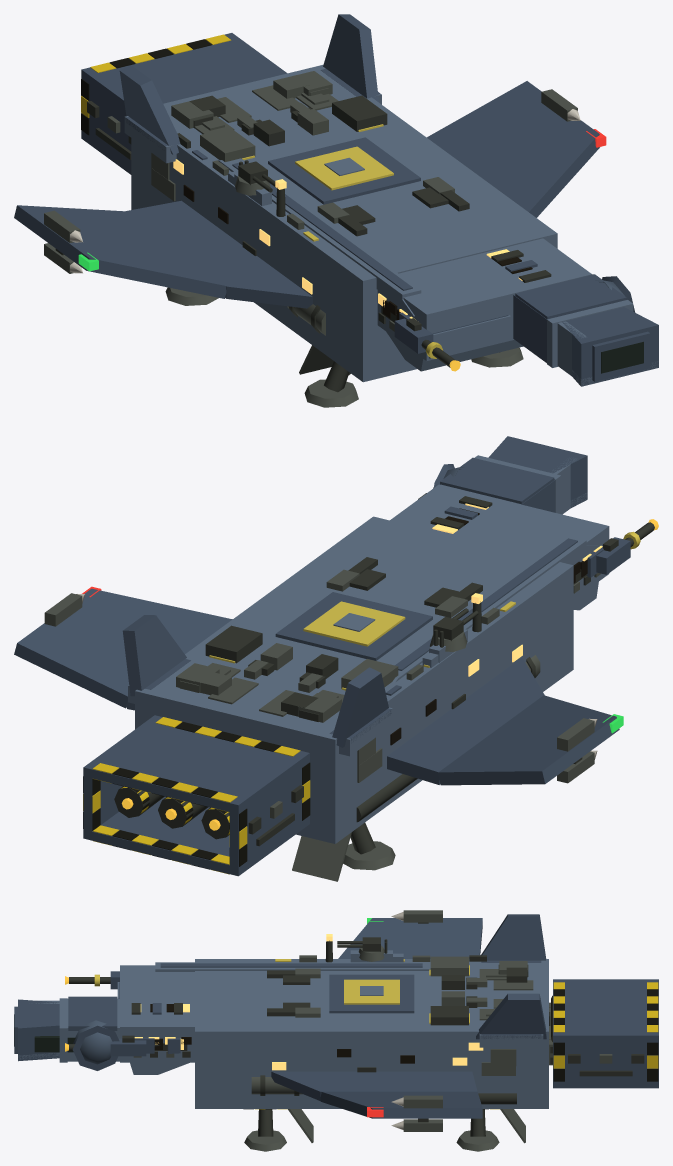
Rendered from navy-s.glb.
3 views of the same model, one above another, from view 1: azimuth 30°, elevation 25°; view 2: azimuth 150°, elevation 25°; view 3: azimuth 270°, elevation 25° (orthographic). The views are drawn at different scales.
Parts seen in each view (by area): view 1: hullMain, wingOuterRight, hullNose, wingOuterLeft, wingInnerLeft, shroudPlateTop, hullNoseTip, factionEmblemPlate, stabilizerFinR, hullNoseExtRib, stabilizerFinL, gearFoot (×3) (+21 smaller); view 2: hullMain, shroudPlateTop, wingOuterRight, wingOuterLeft, hullNose, wingInnerLeft, shroudPlateBottom, factionEmblemPlate, stabilizerFinR, hullNoseExtRib, hullNoseTip, shroudPlateLeft (+16 smaller); view 3: hullMain, shroudPlateTop, hullNose, wingInnerRight, wingOuterLeft, wingOuterRight, shroudPlateRight, stabilizerFinL, stabilizerFinR, factionEmblemPlate, hullNoseTip, portSideRib (+25 smaller).
Boxes of the visible parts, <box> form: hullMain: <box>131,64,557,382</box>; wingOuterRight: <box>427,81,599,217</box>; hullNose: <box>377,238,591,360</box>; wingOuterLeft: <box>14,205,226,298</box>; wingInnerLeft: <box>125,200,312,308</box>; shroudPlateTop: <box>81,33,287,110</box>; hullNoseTip: <box>562,307,658,386</box>; factionEmblemPlate: <box>268,137,420,204</box>; stabilizerFinR: <box>323,14,378,102</box>; hullNoseExtRib: <box>515,274,626,319</box>; stabilizerFinL: <box>119,65,180,155</box>; gearFoot (×3): <box>165,287,523,407</box>; hullMain: <box>135,516,573,843</box>; shroudPlateTop: <box>83,715,309,813</box>; wingOuterRight: <box>14,588,232,708</box>; wingOuterLeft: <box>437,695,619,785</box>; hullNose: <box>390,484,609,599</box>; wingInnerLeft: <box>387,657,544,784</box>; shroudPlateBottom: <box>83,796,309,876</box>; factionEmblemPlate: <box>275,592,432,660</box>; stabilizerFinR: <box>122,615,186,696</box>; hullNoseExtRib: <box>440,457,554,504</box>; hullNoseTip: <box>488,436,587,507</box>; shroudPlateLeft: <box>230,762,309,867</box>; hullMain: <box>195,959,548,1108</box>; shroudPlateTop: <box>553,979,658,1042</box>; hullNose: <box>120,965,194,1062</box>; wingInnerRight: <box>271,1071,477,1100</box>; wingOuterLeft: <box>338,918,482,958</box>; wingOuterRight: <box>320,1091,482,1118</box>; shroudPlateRight: <box>553,1042,658,1081</box>; stabilizerFinL: <box>481,914,546,960</box>; stabilizerFinR: <box>476,993,546,1039</box>; factionEmblemPlate: <box>329,974,414,1013</box>; hullNoseTip: <box>18,999,59,1060</box>; portSideRib: <box>155,962,427,971</box>.
Bounding box in the file's own units: 4.38 × 1.66 × 6.19.
